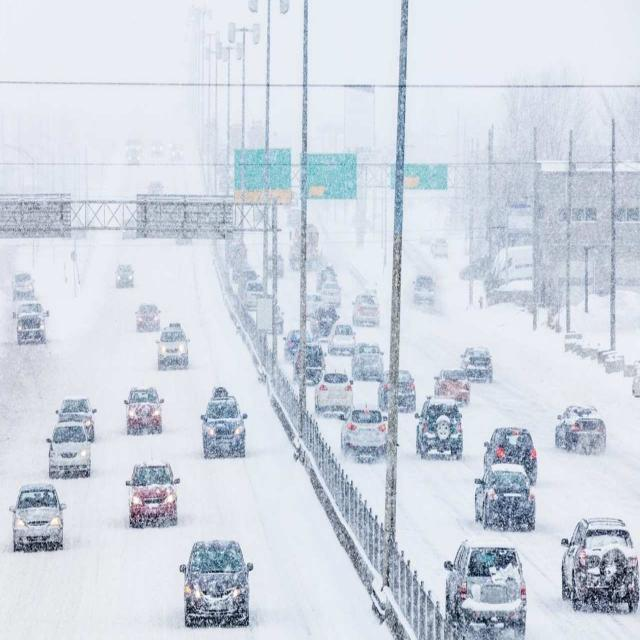car: (446, 541, 528, 632), (560, 518, 638, 612), (181, 538, 251, 630), (10, 483, 66, 553), (128, 458, 180, 526), (480, 466, 534, 531), (482, 426, 539, 486), (201, 392, 247, 459), (417, 397, 463, 460), (554, 404, 606, 456), (47, 421, 93, 479), (343, 408, 389, 454), (315, 373, 355, 413), (157, 322, 190, 370), (376, 370, 416, 408), (58, 399, 96, 436), (16, 302, 48, 344), (433, 368, 469, 404), (460, 348, 493, 383), (296, 342, 324, 380), (351, 342, 384, 373), (349, 294, 379, 326), (134, 301, 162, 333), (284, 330, 310, 363), (327, 322, 354, 352), (412, 274, 436, 304), (313, 306, 334, 336), (12, 275, 36, 297), (461, 260, 484, 282), (245, 281, 263, 308), (319, 281, 341, 303), (264, 252, 284, 275), (115, 264, 133, 287), (432, 238, 449, 256), (303, 298, 319, 315), (146, 184, 164, 197), (171, 146, 185, 162), (127, 153, 141, 167), (126, 143, 140, 156), (152, 144, 162, 156)
